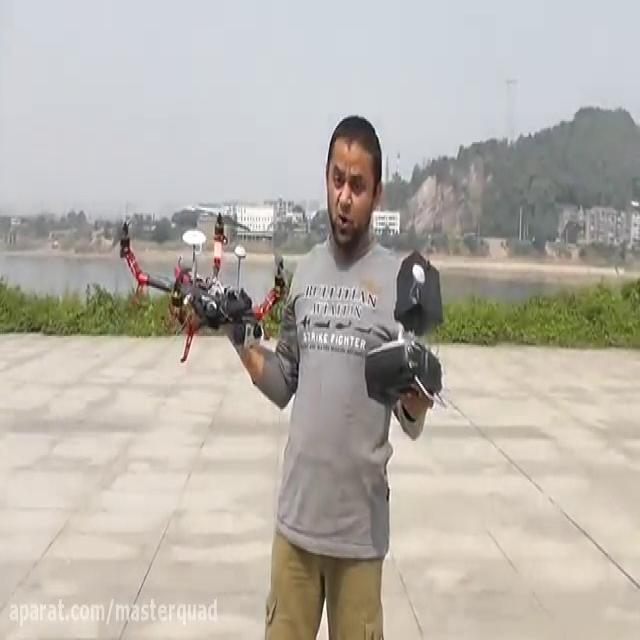drone: (113, 202, 292, 364)
